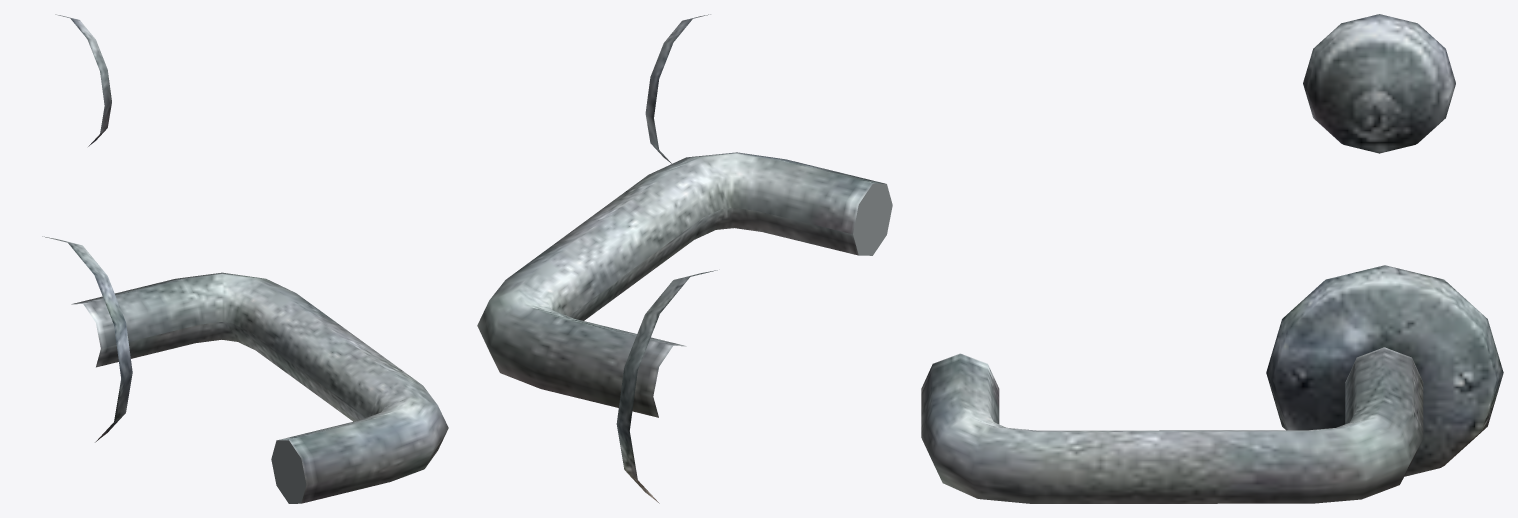
Rendered from doorknobb.glb.
The picture shows the model from 3 angles, left to right: view 1: azimuth 30°, elevation 25°; view 2: azimuth 150°, elevation 25°; view 3: azimuth 270°, elevation 25°; orthographic projection. The views are drawn at different scales.
Parts seen in each view (by area): view 1: 0_doorknob; view 2: 0_doorknob; view 3: 0_doorknob.
Part boxes in pixels (x1,y1,x2,y2): 0_doorknob: [42, 14, 448, 503]; 0_doorknob: [477, 14, 892, 503]; 0_doorknob: [921, 14, 1503, 503].
Size of the model in its own units: 0.0921 by 0.1802 by 0.2039.
Materials: 1 (1 with a texture image).
